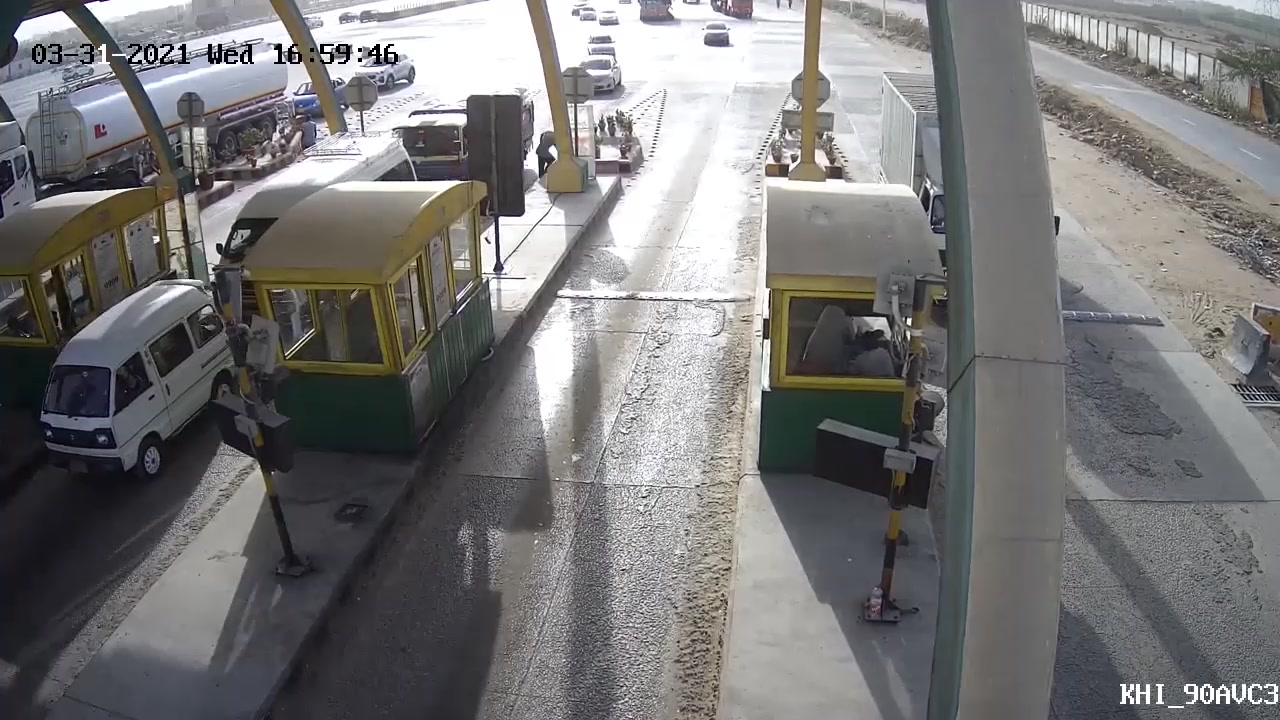F1: (687, 14, 735, 60)
